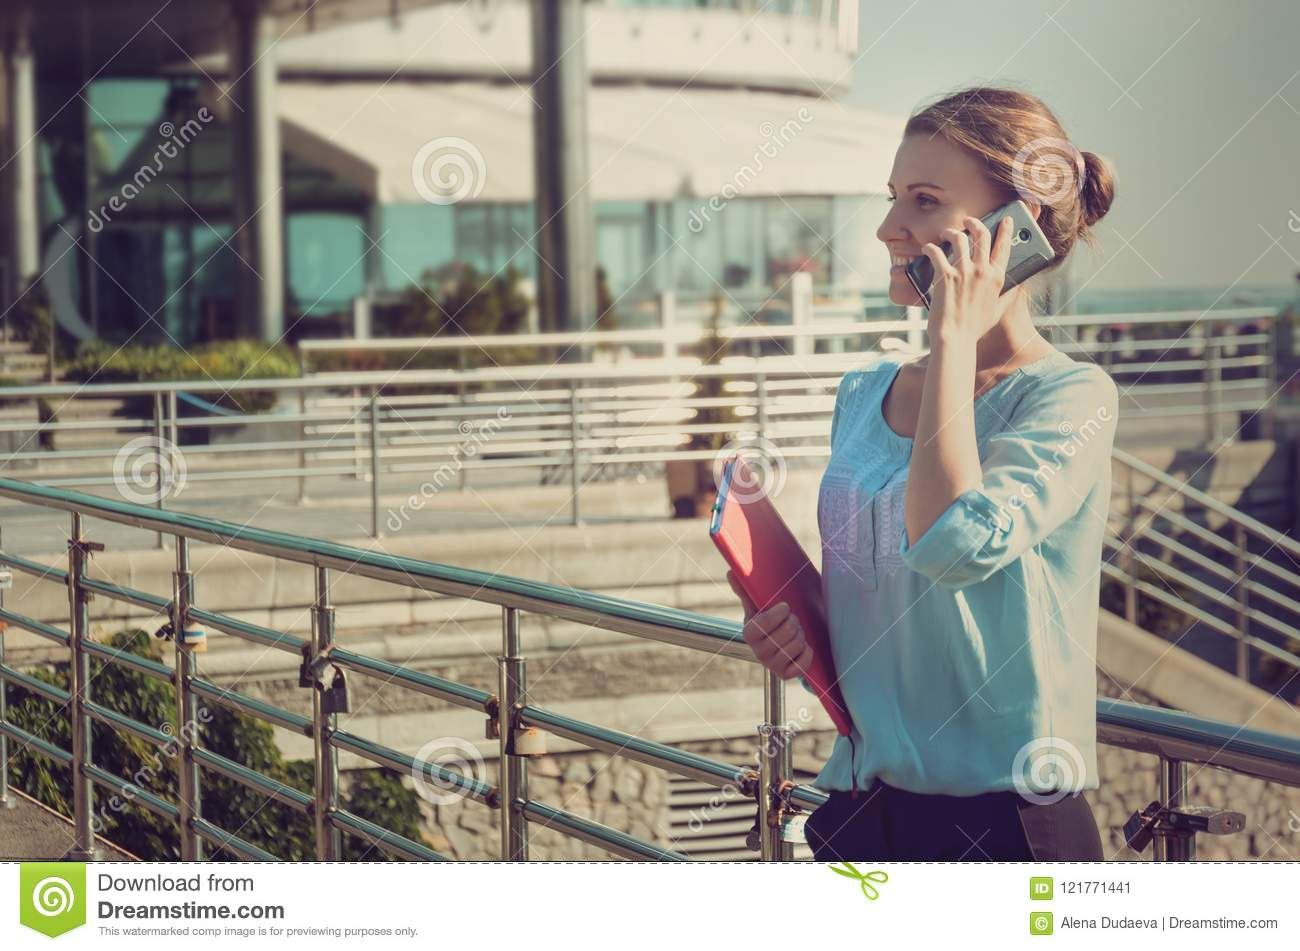phone: (905, 193, 1054, 319)
talk: (873, 170, 1060, 367)
